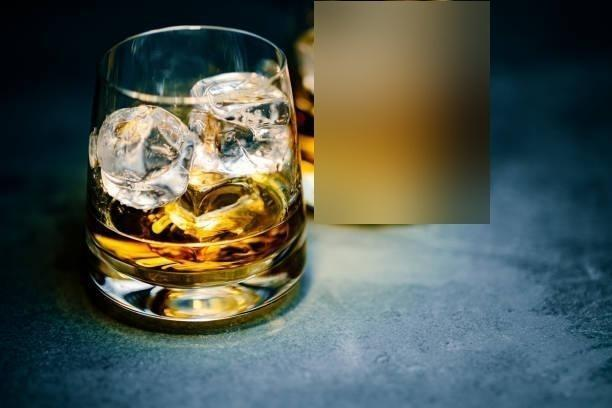glass-normal: (78, 23, 310, 333)
